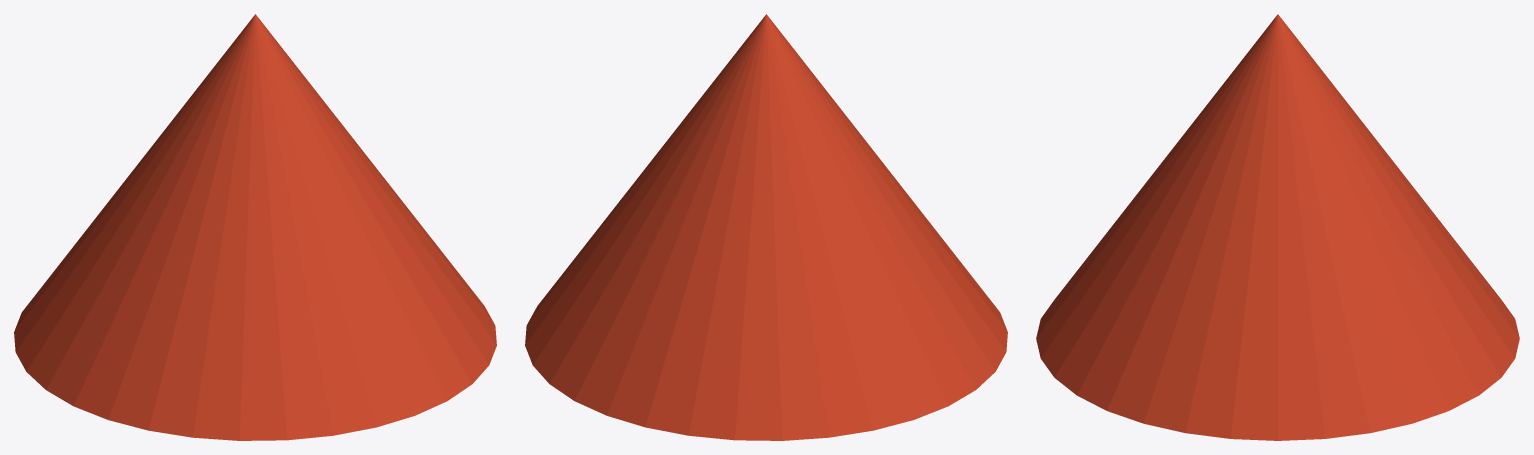
File: IconCone.glb
The picture shows the model from 3 angles, left to right: view 1: azimuth 30°, elevation 25°; view 2: azimuth 150°, elevation 25°; view 3: azimuth 270°, elevation 25°; orthographic projection.
Visible parts, largest first — view 1: IconCone; view 2: IconCone; view 3: IconCone.
Part boxes in pixels (x1=…): IconCone: x1=14, y1=14, x2=496, y2=440; IconCone: x1=525, y1=14, x2=1007, y2=440; IconCone: x1=1036, y1=14, x2=1519, y2=440.
Size of the model in its own units: 2.7 by 2 by 2.7.
